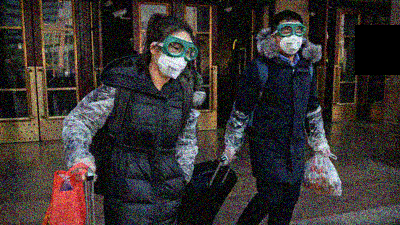with_mask: (157, 39, 197, 82), (277, 24, 305, 56)
